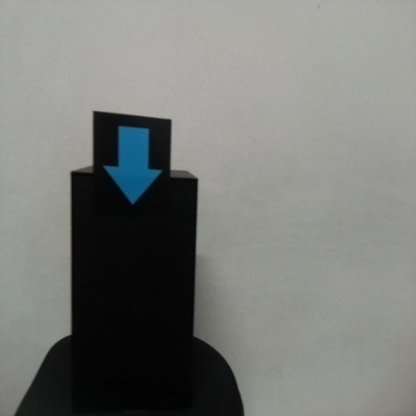id_2: (93, 113, 172, 233)
